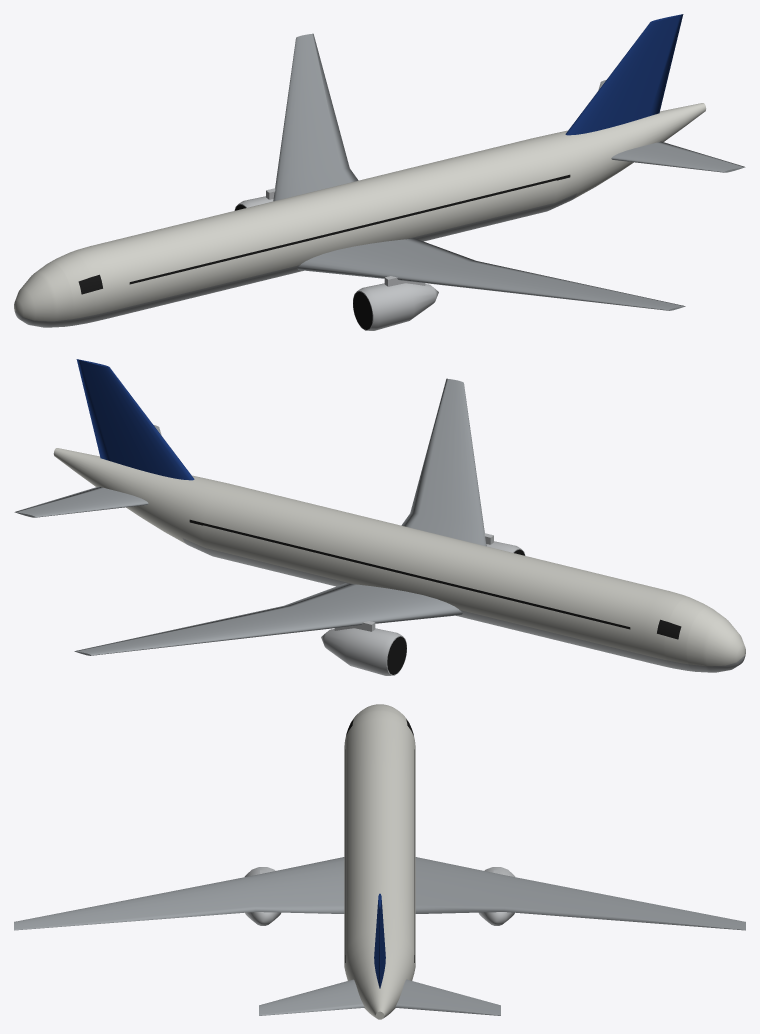
3 views of the same model, one above another, from view 1: azimuth 30°, elevation 25°; view 2: azimuth 150°, elevation 25°; view 3: azimuth 270°, elevation 25° (orthographic).
Visible parts, largest first — view 1: b789; view 2: b789; view 3: b789.
Part boxes in pixels (box(x1,y1,x2,y2)): b789: box(14, 14, 745, 330); b789: box(14, 359, 745, 675); b789: box(14, 704, 745, 1019).
Bounding box in the file's own units: 62.8 × 15.74 × 58.9.
